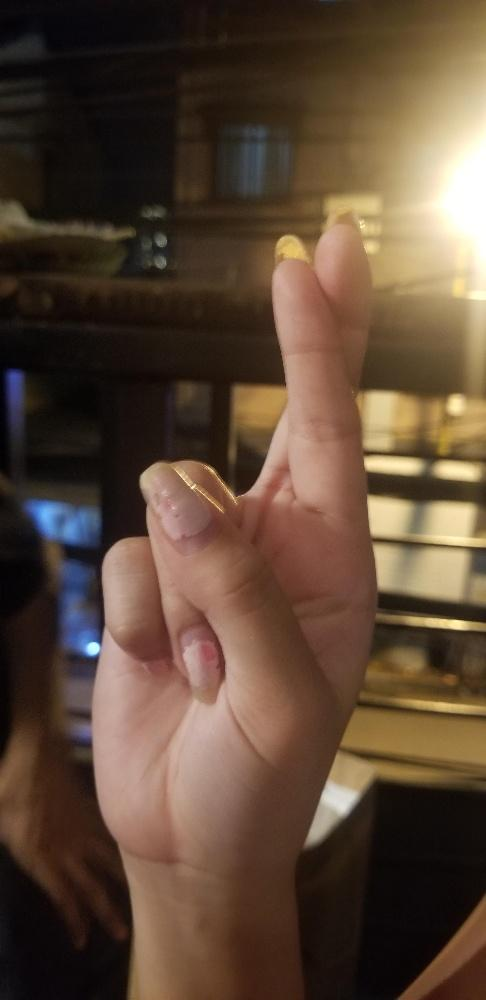r: (86, 201, 381, 878)
